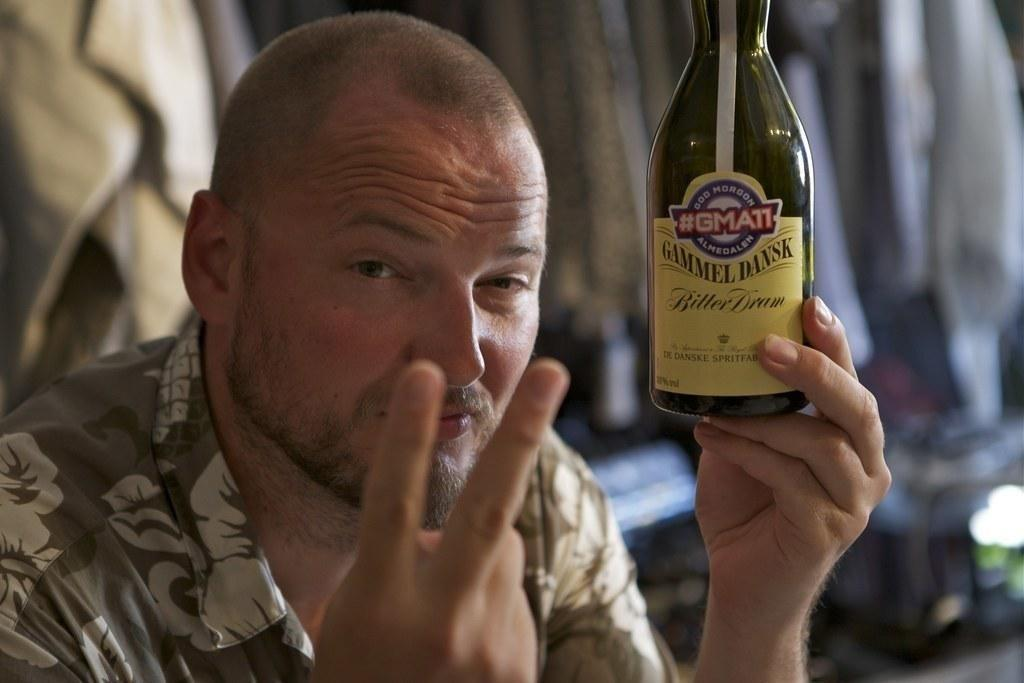bottle-glass: (649, 0, 813, 417)
